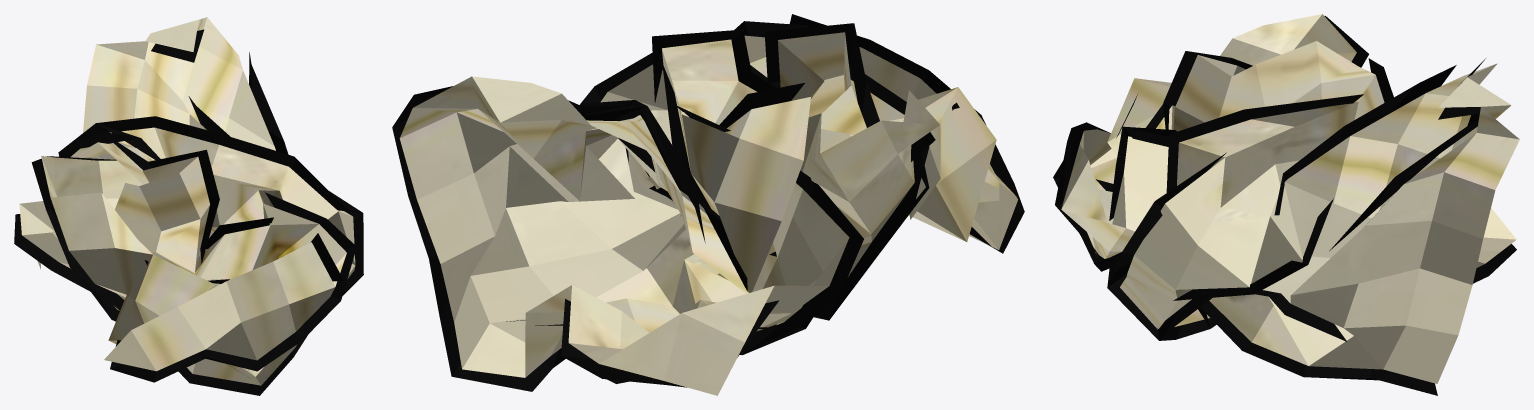
The model's file is Crumpled Paper 1.fbx.
3 renders of one model, left to right at view 1: azimuth 30°, elevation 25°; view 2: azimuth 150°, elevation 25°; view 3: azimuth 270°, elevation 25°, orthographic. The views are drawn at different scales.
Parts seen in each view (by area): view 1: Crumpled Papers; view 2: Crumpled Papers; view 3: Crumpled Papers.
Boxes of the visible parts, bbox=[...] form: Crumpled Papers: bbox=[14, 17, 363, 395]; Crumpled Papers: bbox=[392, 14, 1024, 395]; Crumpled Papers: bbox=[1053, 14, 1519, 395].
Size of the model in its own units: 14.99 by 18.09 by 11.95.
